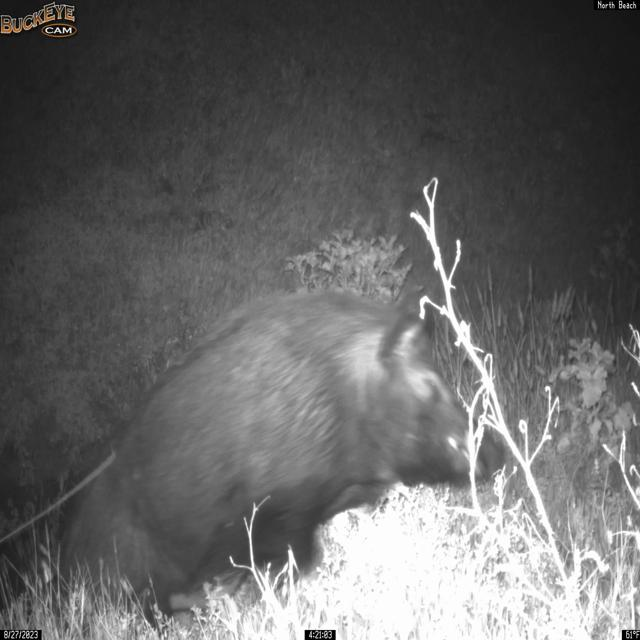pig: (42, 284, 506, 637)
